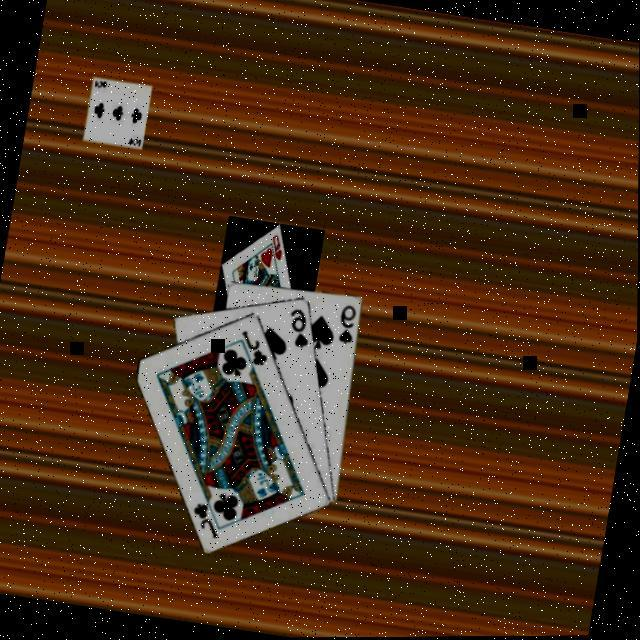6S: (282, 303, 316, 350)
9S: (333, 299, 360, 346)
JC: (234, 325, 274, 368), (186, 497, 226, 540)
